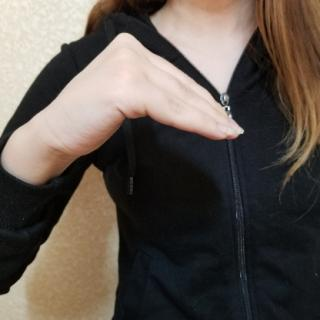HAA: (28, 30, 258, 168)
